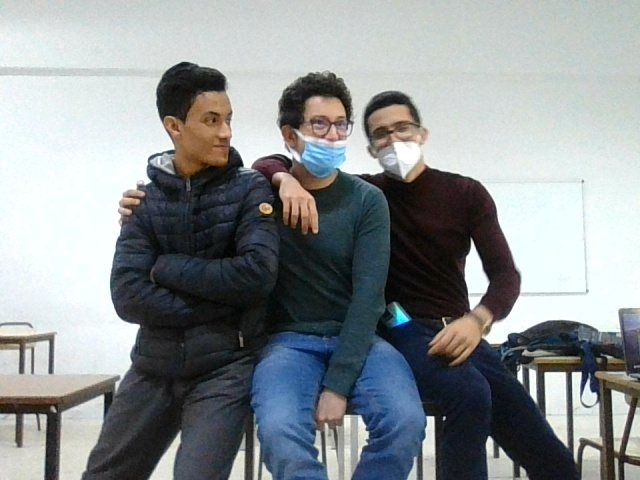mask_weared_incorrect: (268, 69, 358, 194), (360, 91, 445, 208)
without_mask: (153, 69, 239, 170)
